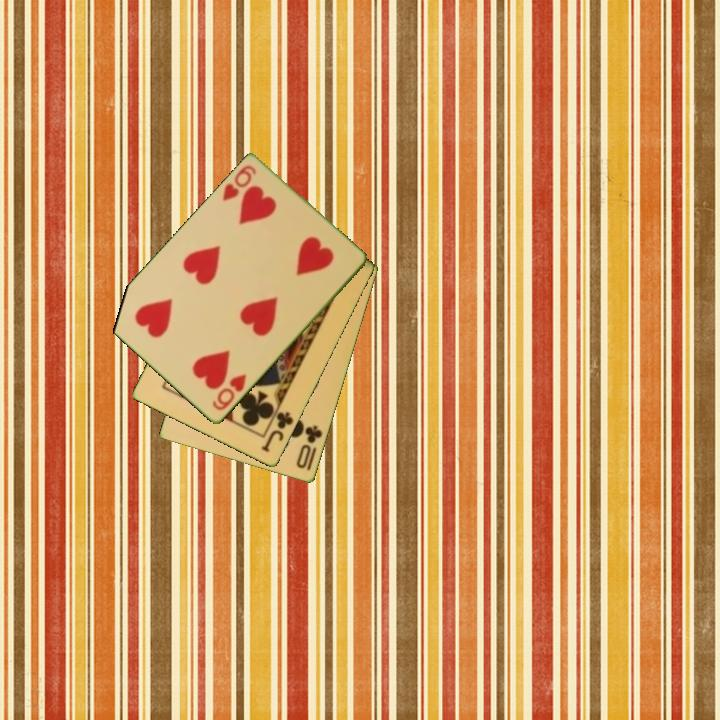10c: (293, 422, 325, 472)
6h: (209, 371, 249, 414), (219, 162, 259, 205)
Jc: (258, 402, 296, 455)
